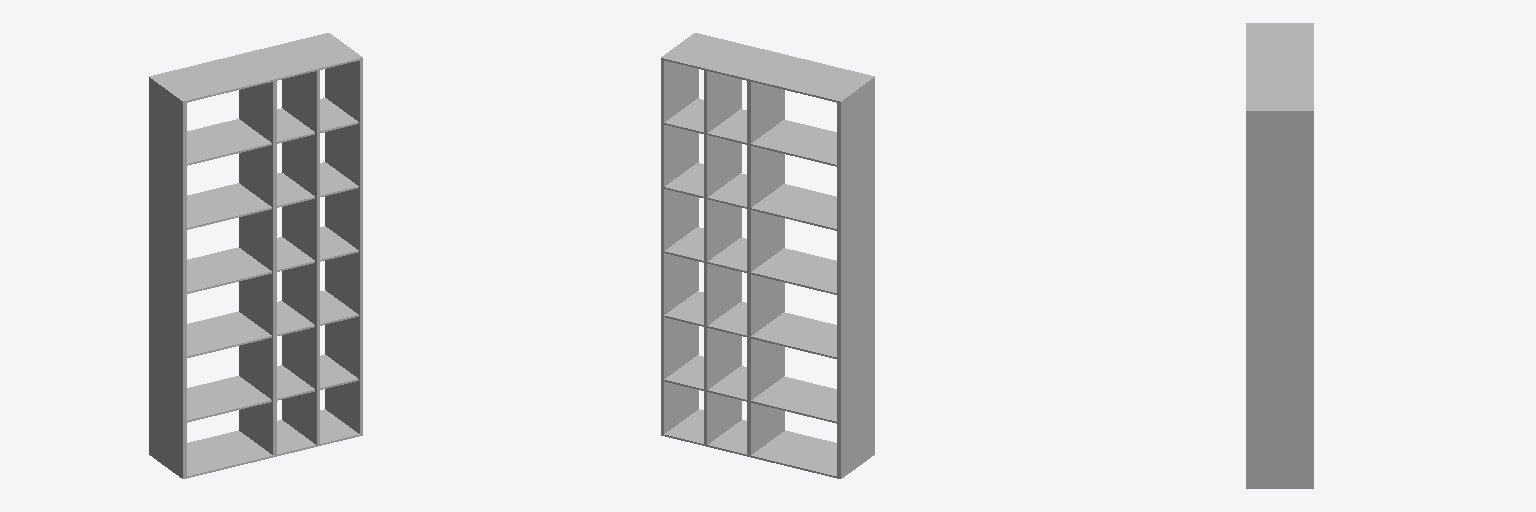
File: shelf.obj
3 views of the same model, side by side, from view 1: azimuth 30°, elevation 25°; view 2: azimuth 150°, elevation 25°; view 3: azimuth 270°, elevation 25° (orthographic).
Parts seen in each view (by area): view 1: line0, line3, line1, line2, top, bottom, board02, board03, board01, board04, board00, board21 (+9 smaller); view 2: line0, line1, line3, line2, top, bottom, board04, board02, board01, board00, board03, board20 (+9 smaller); view 3: line3, top.
Part boxes in pixels (x1,y1,x2,y2): line0: (149,76,186,478); line3: (325,33,362,435); line1: (239,81,276,454); line2: (282,70,319,444); top: (153,33,359,102); bottom: (187,409,359,477); board02: (187,247,271,293); board03: (187,183,271,229); board01: (187,311,271,357); board04: (187,119,271,165); board00: (187,376,271,422); board21: (320,290,358,325); line0: (837,76,874,478); line1: (747,81,784,454); line3: (661,33,698,435); line2: (704,70,741,444); top: (664,33,870,102); bottom: (664,409,836,477); board04: (751,120,836,166); board02: (751,248,836,294); board01: (751,312,836,358); board00: (751,376,836,423); board03: (751,184,836,230); board20: (664,355,703,390); line3: (1246,109,1313,488); top: (1246,25,1313,108).
Bounding box in the file's own units: 50 × 100 × 16.5.